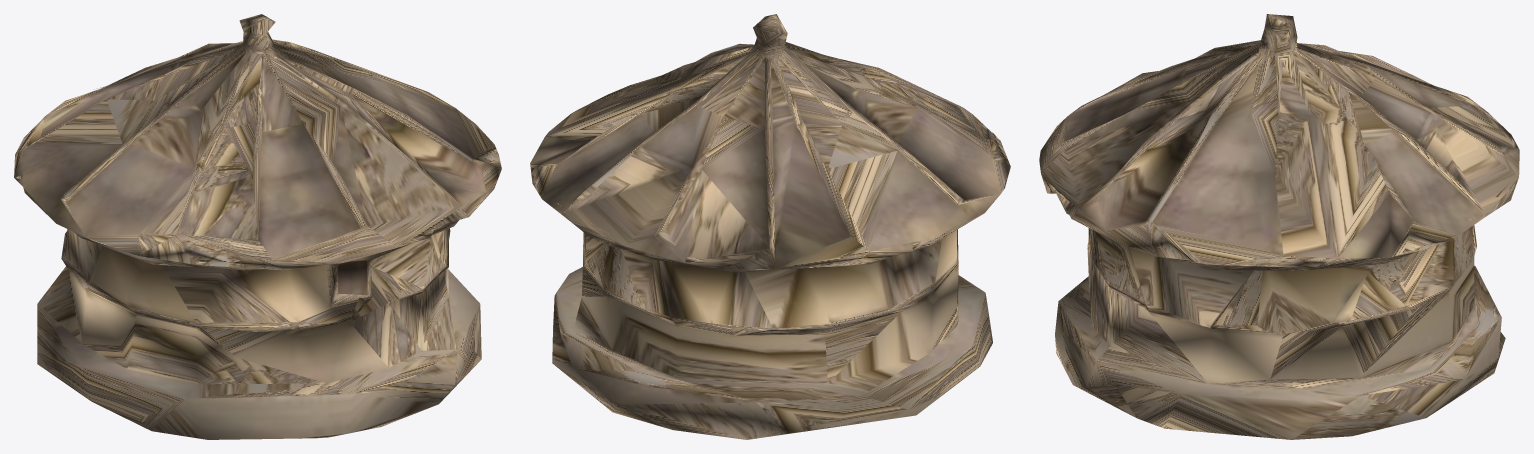
File: granary_b_lod2.glb
3 views of the same model, side by side, from view 1: azimuth 30°, elevation 25°; view 2: azimuth 150°, elevation 25°; view 3: azimuth 270°, elevation 25° (orthographic).
Parts seen in each view (by area): view 1: node_0; view 2: node_0; view 3: node_0.
Boxes of the visible parts, bbox=[...] form: node_0: bbox=[14, 14, 501, 439]; node_0: bbox=[530, 14, 1010, 439]; node_0: bbox=[1039, 14, 1519, 439].
Size of the model in its own units: 5.44 by 4.17 by 5.45.
1 material, 1 textured.
